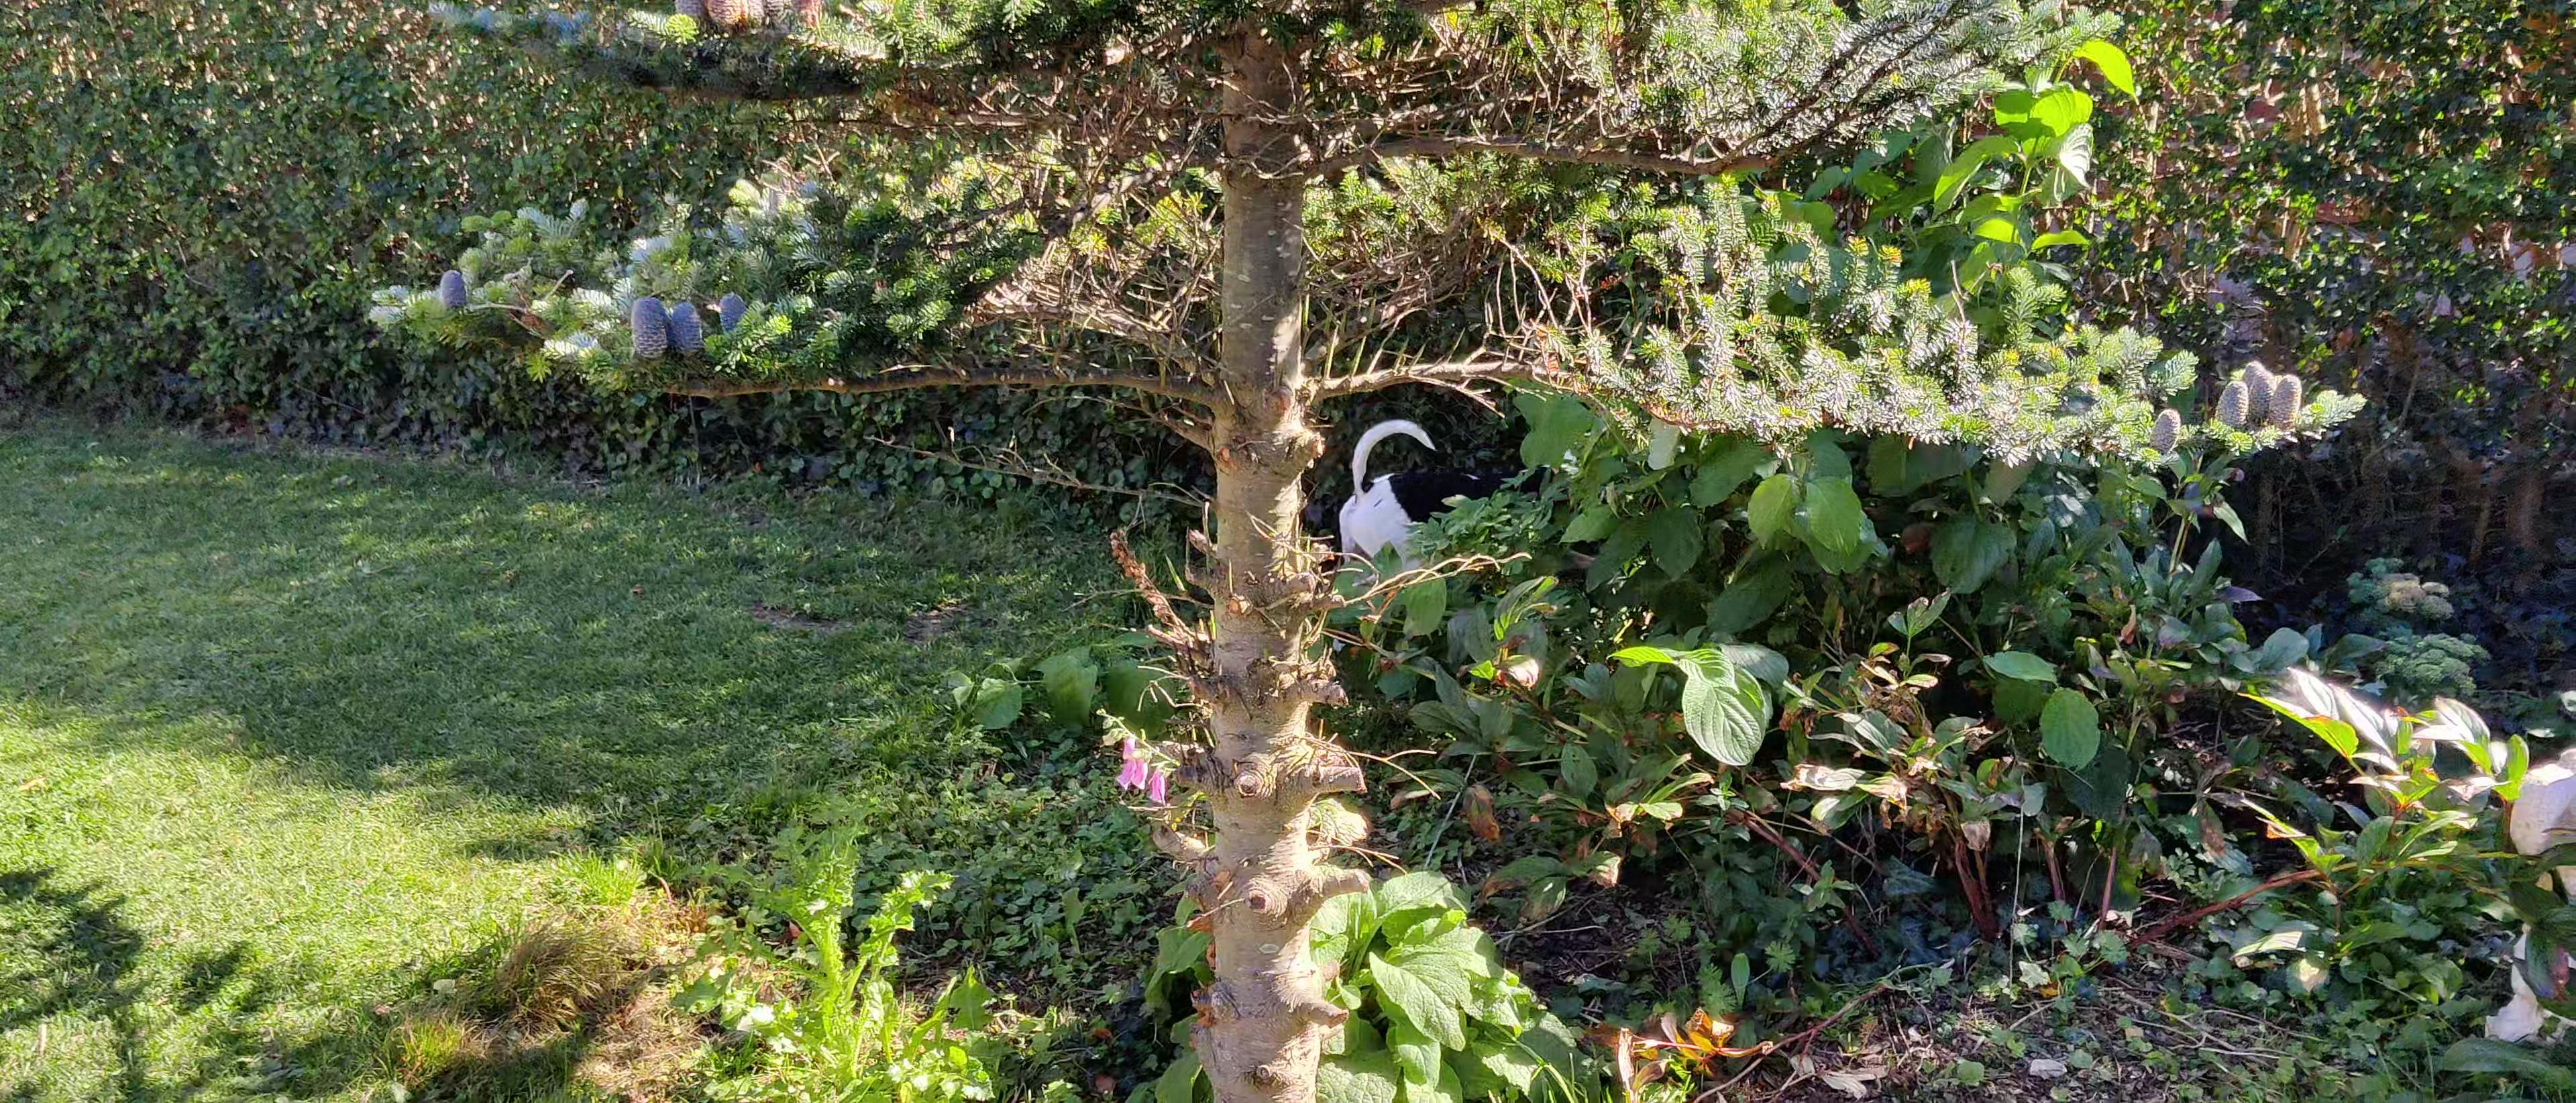Dog: (1331, 416, 1536, 565)
